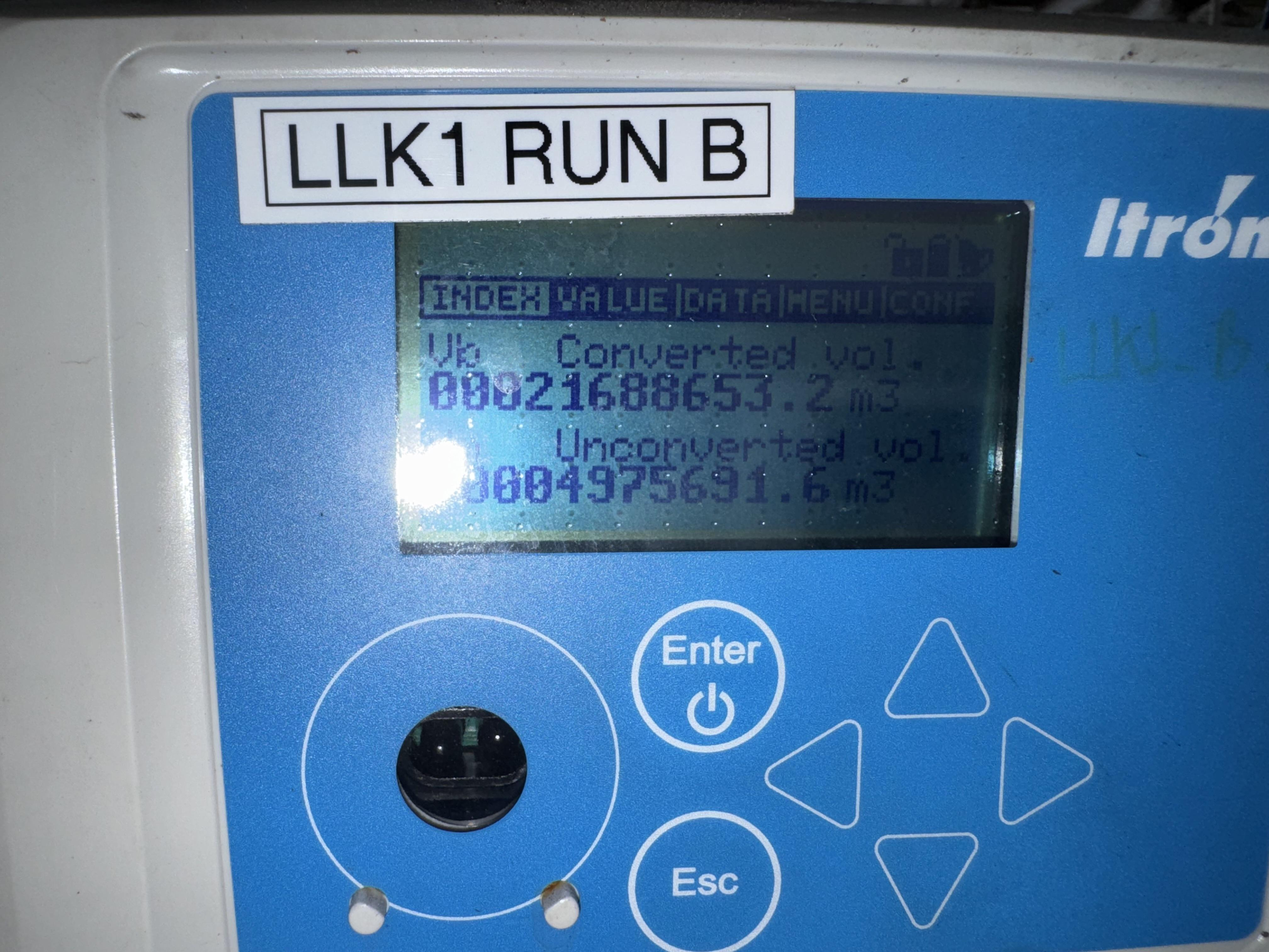digital_screen: (396, 195, 1036, 552)
